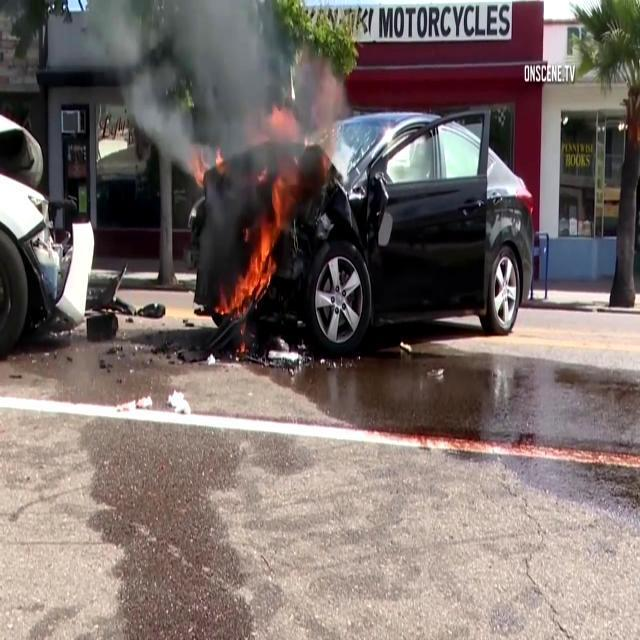Fire: (234, 206, 286, 319)
Smoke: (88, 0, 355, 200)
